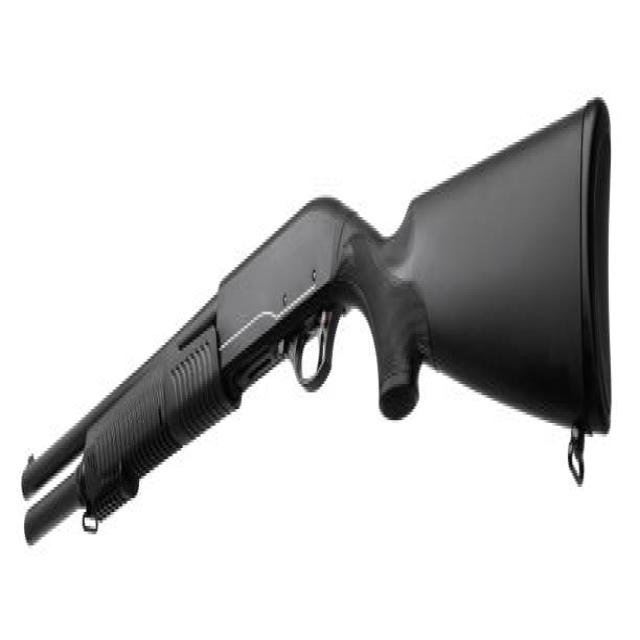rifle: (19, 96, 617, 556)
